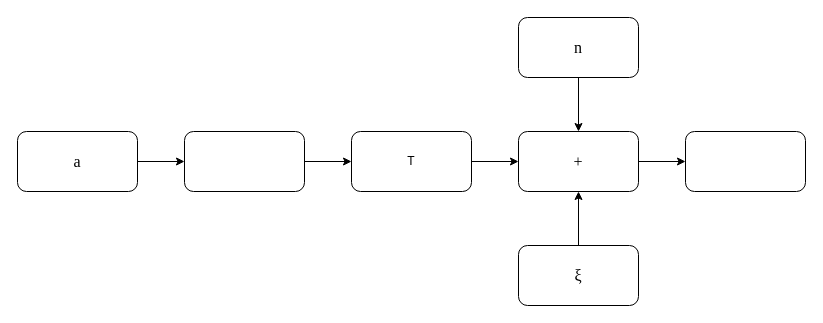
This 823x323 diagram has some shape labels left out. The shapes that lost their labels are listed below. From the top down, each one's centre as x and y in pixels, then its label:
At point 244,161: "Sa+b".
At point 745,161: "y_реал".
